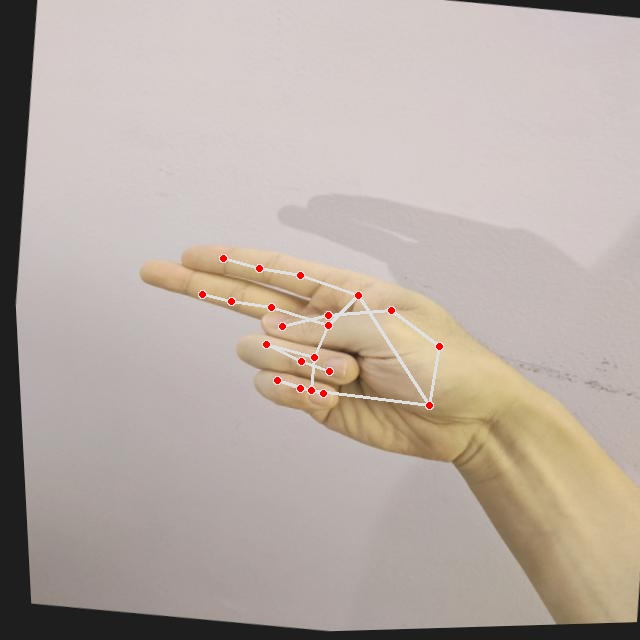H: (103, 221, 520, 483)
